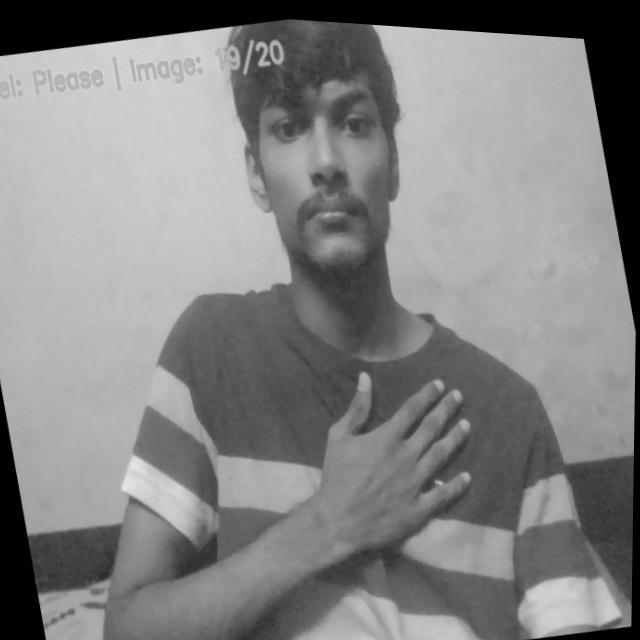Please: (279, 343, 497, 579)
